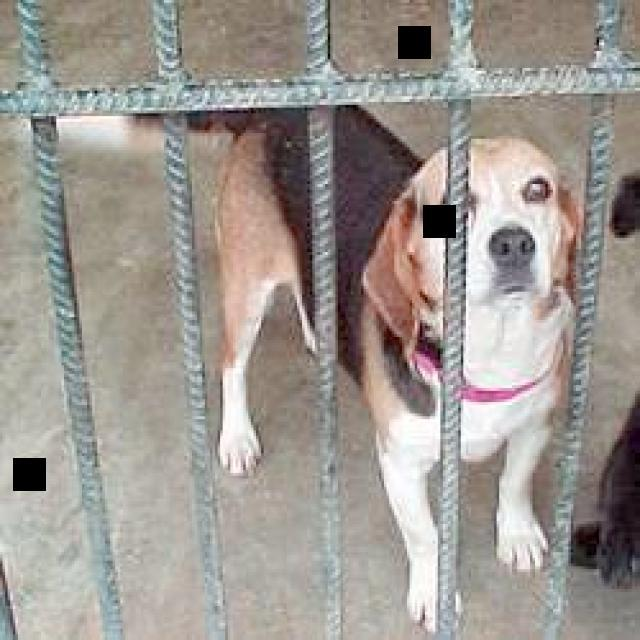adult_dog: (201, 99, 590, 638)
